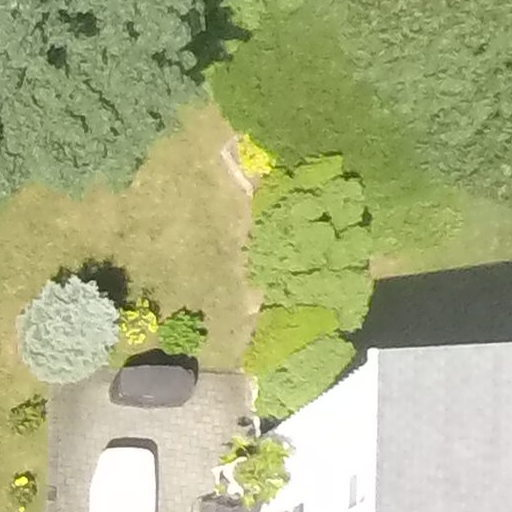barbecue: (110, 354, 208, 411)
